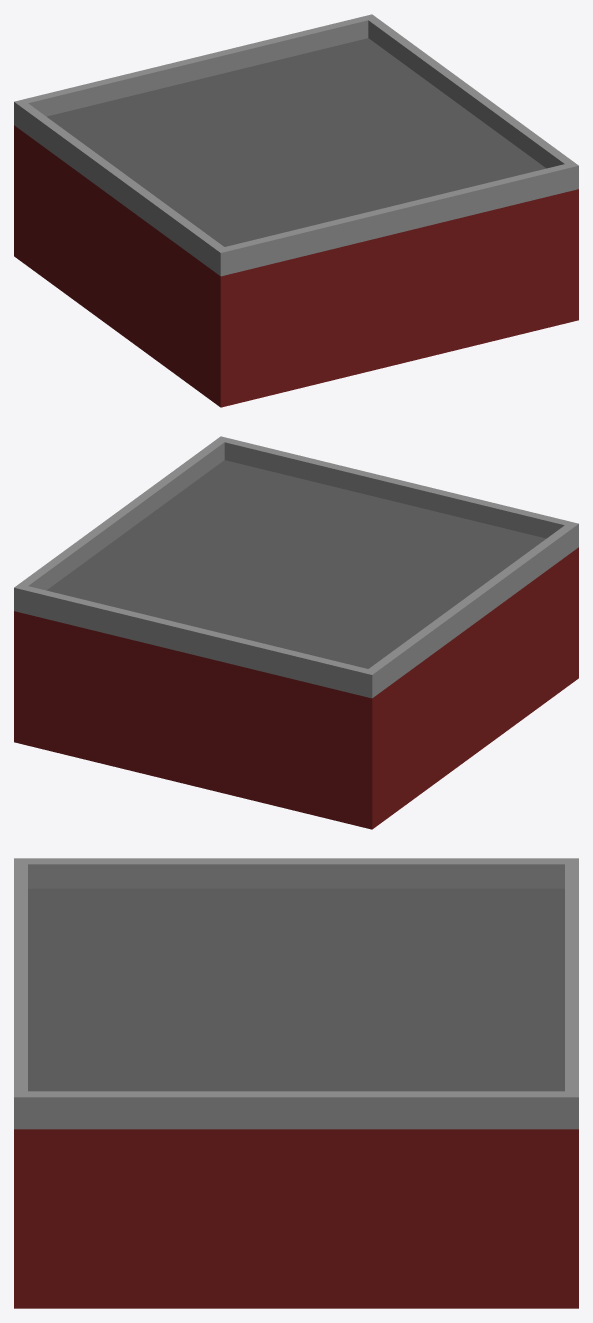
Rendered from Building_20_20_70.FBX.
3 views of the same model, one above another, from view 1: azimuth 30°, elevation 25°; view 2: azimuth 150°, elevation 25°; view 3: azimuth 270°, elevation 25° (orthographic). The views are drawn at different scales.
Parts seen in each view (by area): view 1: BakedBuilding_2014741032825997; view 2: BakedBuilding_2014741032825997; view 3: BakedBuilding_2014741032825997.
Boxes of the visible parts, x1,y1,x2,y2 form: BakedBuilding_2014741032825997: (14,14,578,407); BakedBuilding_2014741032825997: (14,436,578,829); BakedBuilding_2014741032825997: (14,858,578,1308).
Bounding box in the file's own units: 2000 × 825 × 2000.
